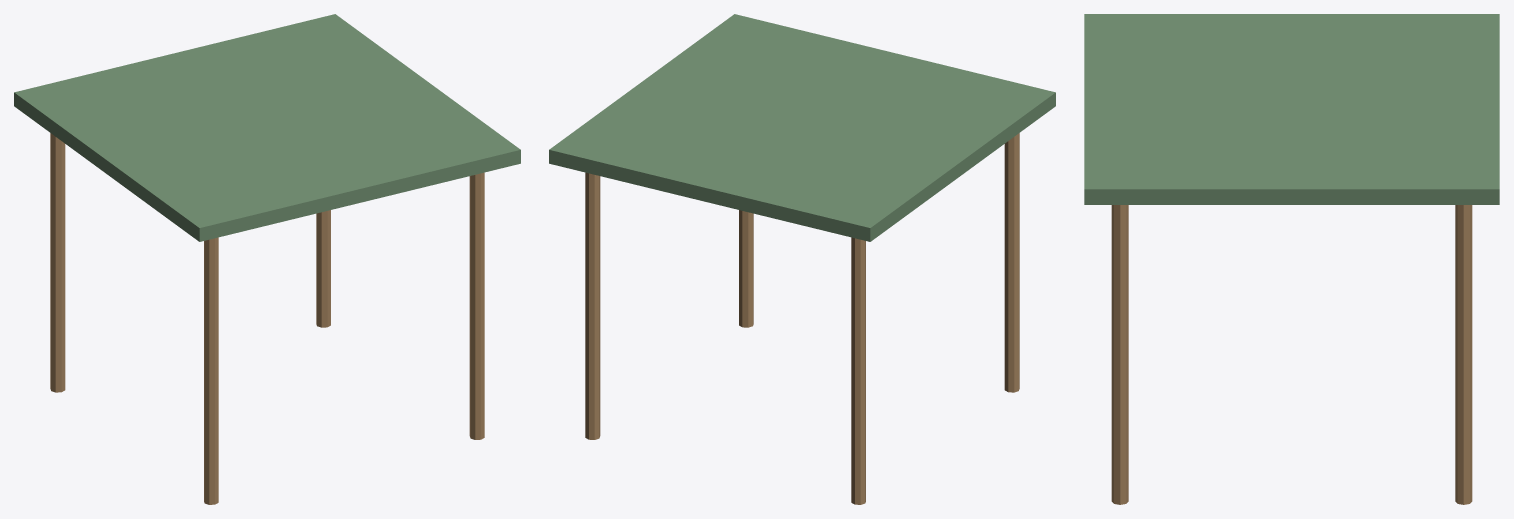
File: shelter_small.glb
3 renders of one model, left to right at view 1: azimuth 30°, elevation 25°; view 2: azimuth 150°, elevation 25°; view 3: azimuth 270°, elevation 25°, orthographic. The views are drawn at different scales.
Visible parts, largest first — view 1: ShelterSmall; view 2: ShelterSmall; view 3: ShelterSmall.
Boxes of the visible parts, bbox=[...] form: ShelterSmall: bbox=[14, 14, 520, 504]; ShelterSmall: bbox=[549, 14, 1055, 504]; ShelterSmall: bbox=[1084, 14, 1499, 504].
Bounding box in the file's own units: 2.9 × 2.52 × 2.9.
